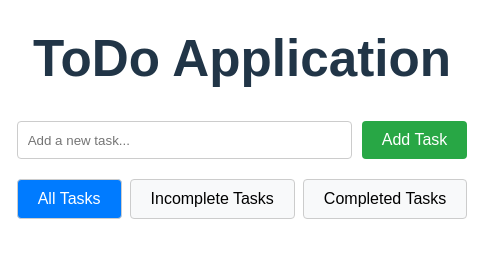
Test: ToDo Application › adds a new task
Type "Test Task" into the field with placeholder "Add a new task..." at (184, 140), box top-left (17, 122), bottom-right (352, 160)
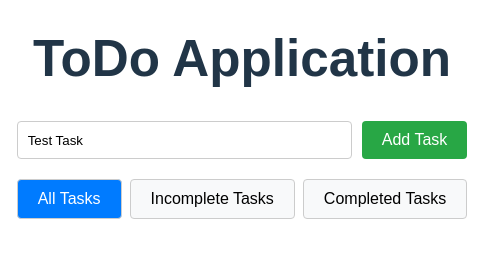
Click the button "Add Task" at (415, 140), box top-left (362, 122), bottom-right (467, 160)
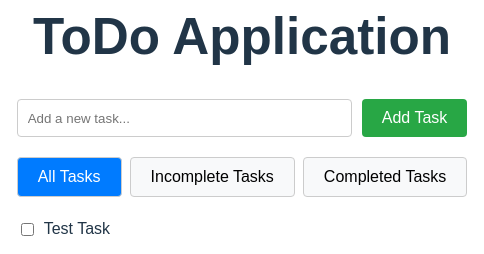
Expected: the list item "Test Task" is shown, top-left (21, 220), bottom-right (110, 238)
Expected: the checkbox is shown, top-left (21, 223), bottom-right (34, 236)
